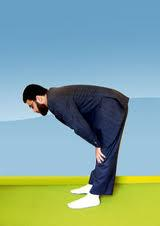ruku: (20, 62, 154, 219)
